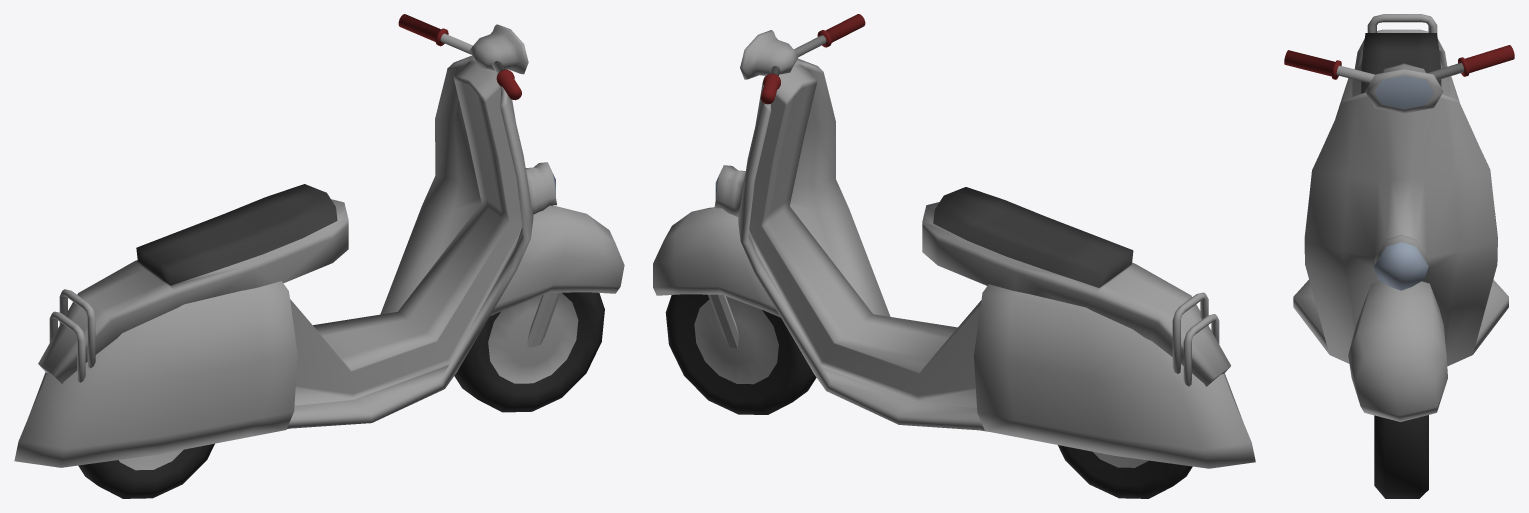
File: Roller.fbx
3 views of the same model, side by side, from view 1: azimuth 30°, elevation 25°; view 2: azimuth 150°, elevation 25°; view 3: azimuth 270°, elevation 25° (orthographic). The views are drawn at different scales.
Parts seen in each view (by area): view 1: Cube.005; view 2: Cube.005; view 3: Cube.005.
Boxes of the visible parts, left/top/right/bottom form: Cube.005: left=14, top=14, right=624, bottom=498; Cube.005: left=653, top=14, right=1255, bottom=498; Cube.005: left=1284, top=14, right=1514, bottom=498.
Bounding box in the file's own units: 654 × 397 × 200.
